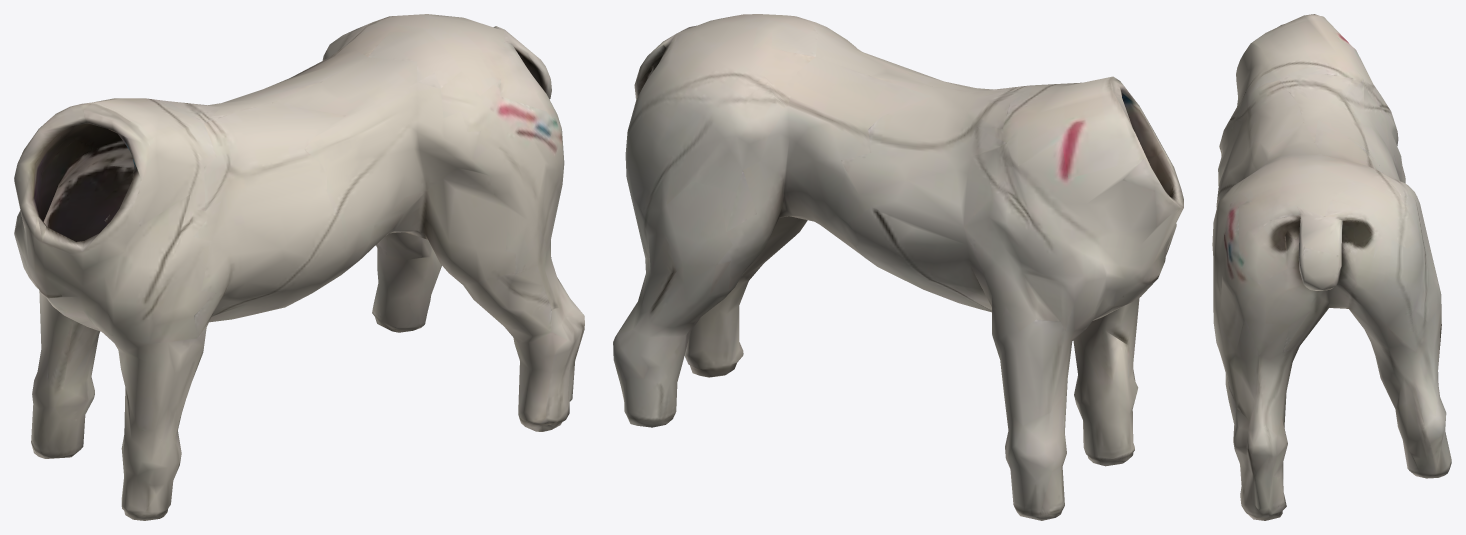
File: body.glb
3 views of the same model, side by side, from view 1: azimuth 30°, elevation 25°; view 2: azimuth 150°, elevation 25°; view 3: azimuth 270°, elevation 25° (orthographic). The views are drawn at different scales.
Bounding box in the file's own units: 2 × 1.47 × 0.9629.
Materials: 1 (1 with a texture image).
